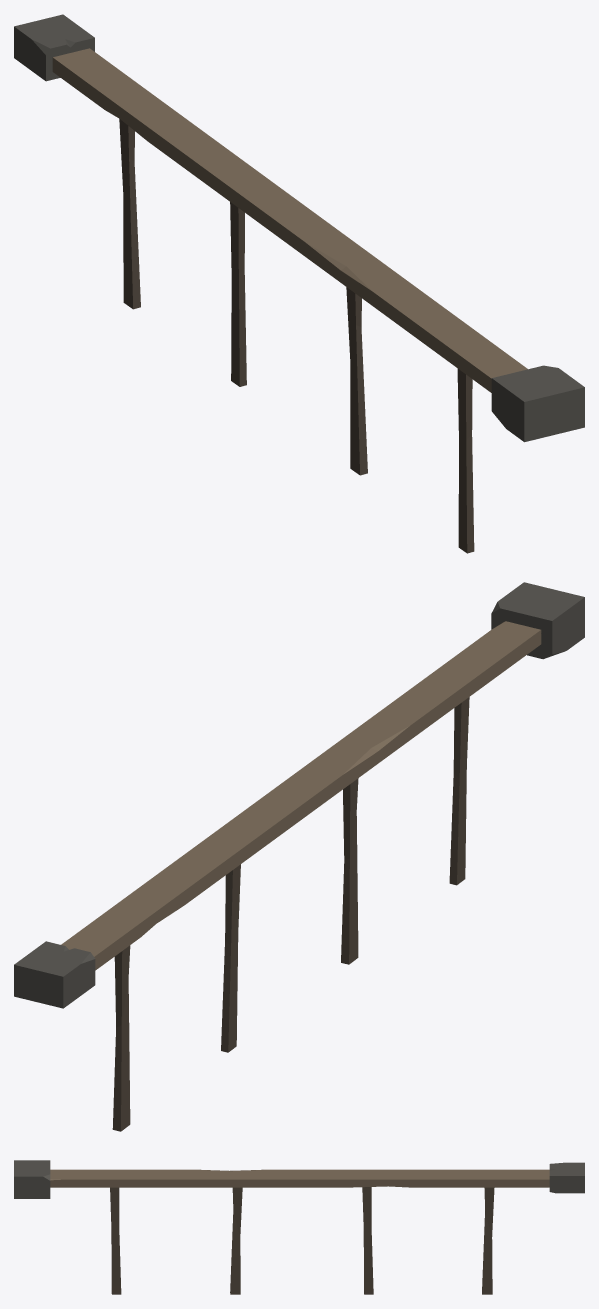
The model's file is bld_bridge_railing.gltf.
3 renders of one model, top to bottom at view 1: azimuth 30°, elevation 25°; view 2: azimuth 150°, elevation 25°; view 3: azimuth 270°, elevation 25°, orthographic. The views are drawn at different scales.
Visible parts, largest first — view 1: bld_bridge_railing; view 2: bld_bridge_railing; view 3: bld_bridge_railing.
Part boxes in pixels (x1,y1,x2,y2): bld_bridge_railing: (14,14,584,553); bld_bridge_railing: (14,582,584,1131); bld_bridge_railing: (14,1160,584,1294).
Size of the model in its own units: 0.3404 by 1.2 by 5.01.
1 material, 1 textured.
